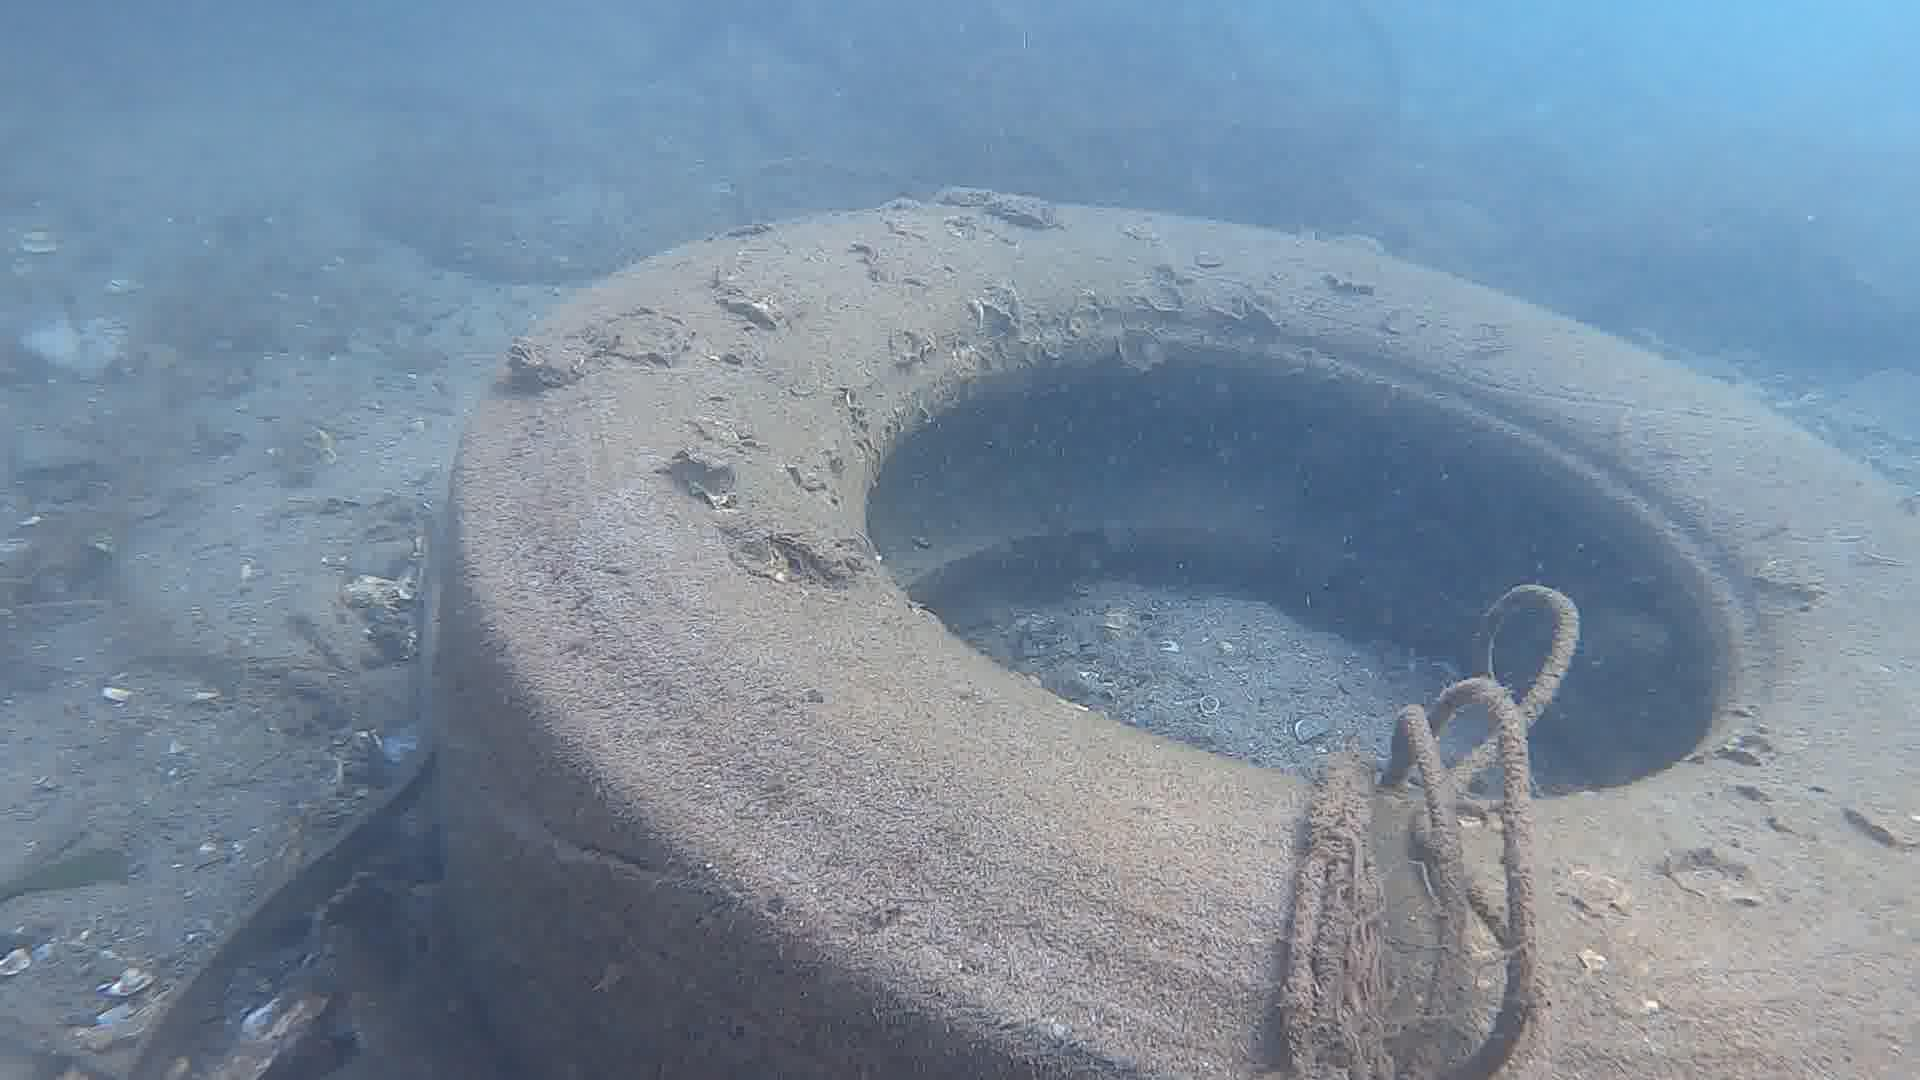bundle of ropes: (1273, 582, 1584, 1080)
tire: (444, 196, 1920, 1080)
